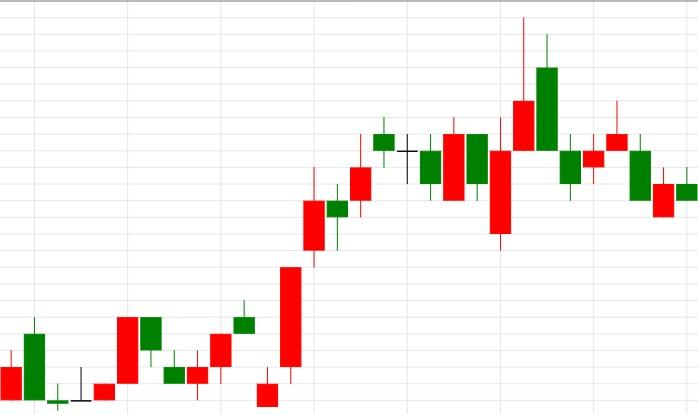bullish_engulfing_rise: (373, 117, 466, 201)
shooting_star_fall: (559, 101, 629, 201)
